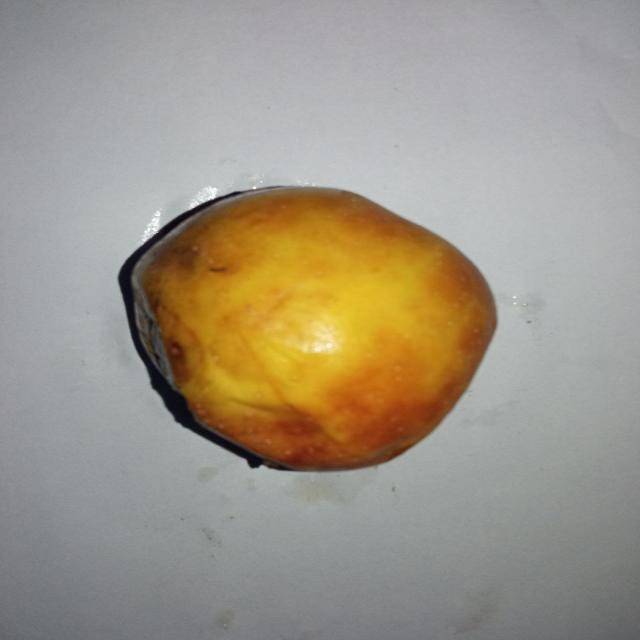rotten_apple: (128, 183, 503, 469)
